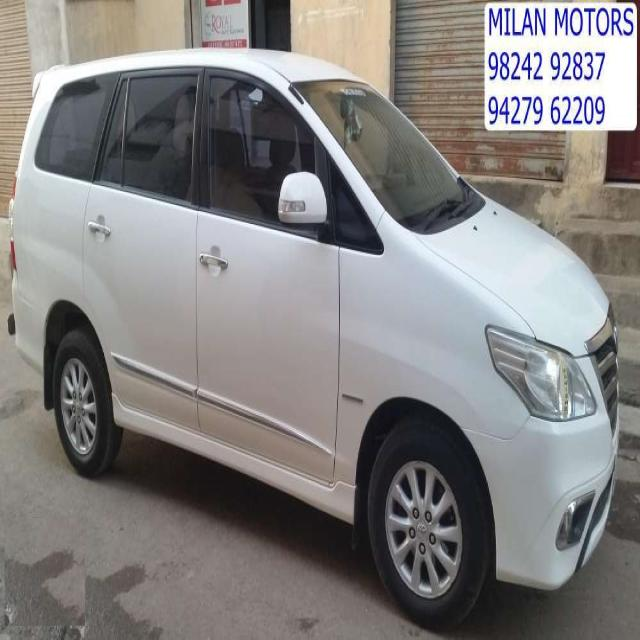light_vehicle: (6, 45, 621, 628)
